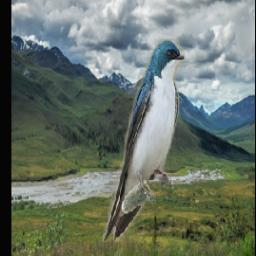Swallow: (103, 39, 185, 242)
